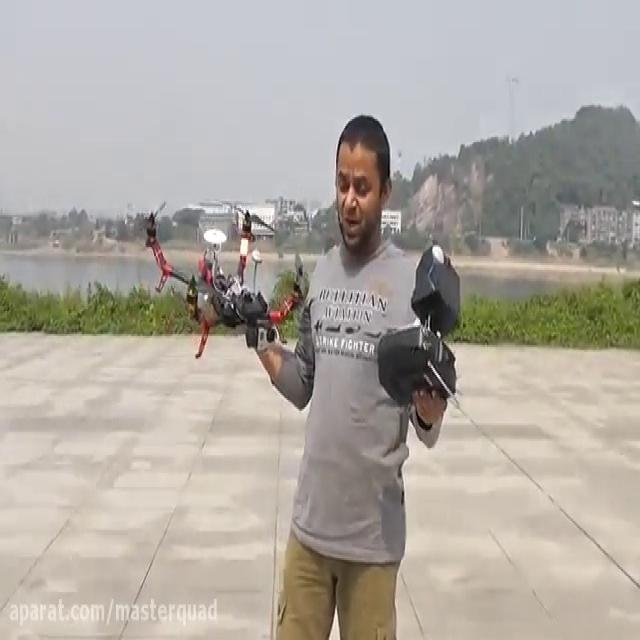drone: (135, 190, 309, 359)
